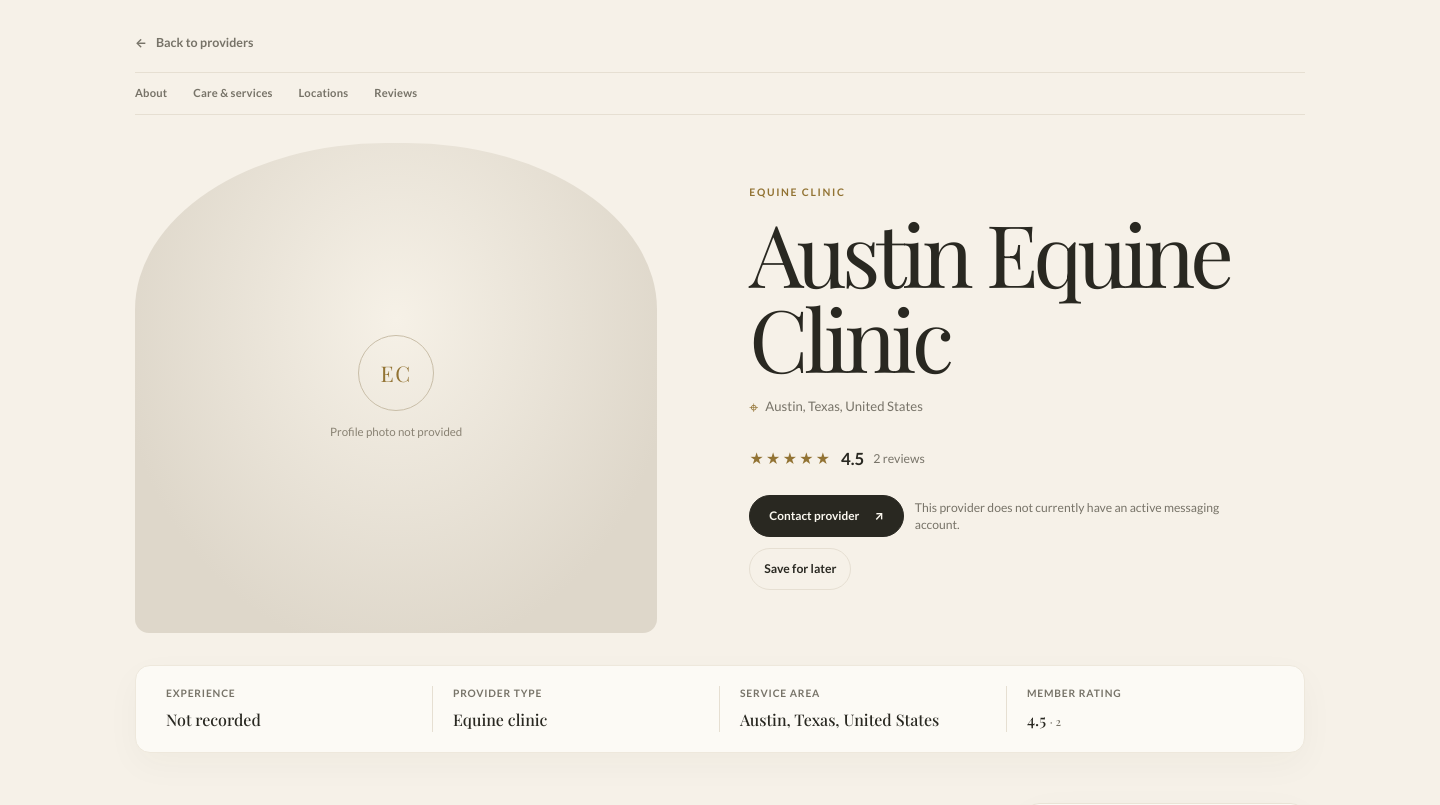
Test: MemberProviderDetailPage › preserves favorite failure feedback without changing its pressed state
This screenshot has width=1440, height=805.
Click the button with aria-label "Save Austin Equine Clinic for later" at (800, 569), box x1=749 y1=548 x2=851 y2=590
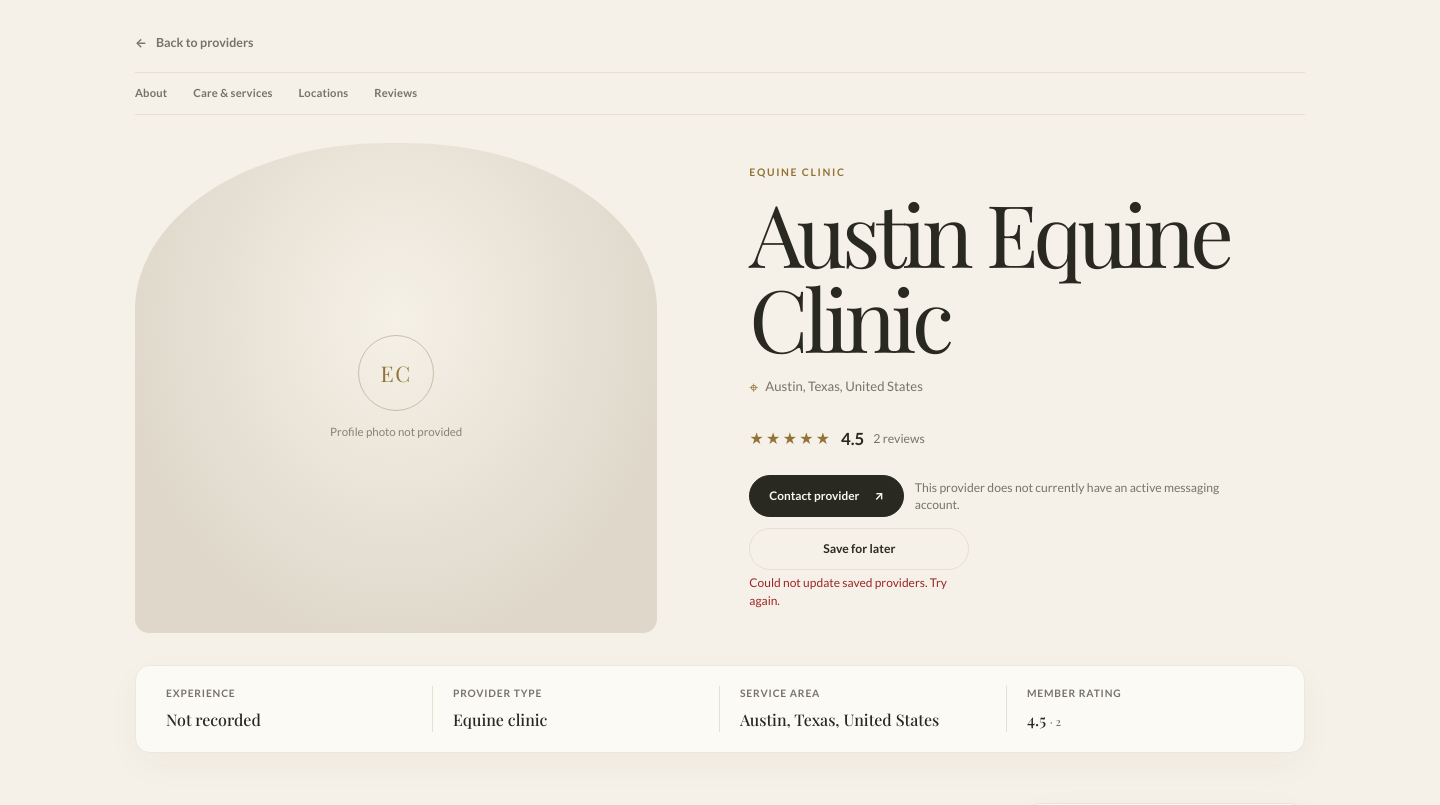
Now the text "Could not update saved providers. Try again." is shown, box x1=749 y1=574 x2=969 y2=610
